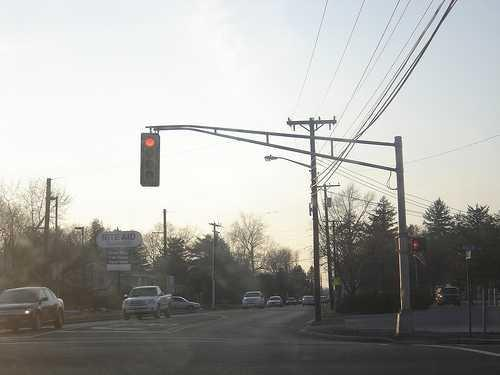red: (139, 128, 159, 189), (141, 133, 160, 151)
